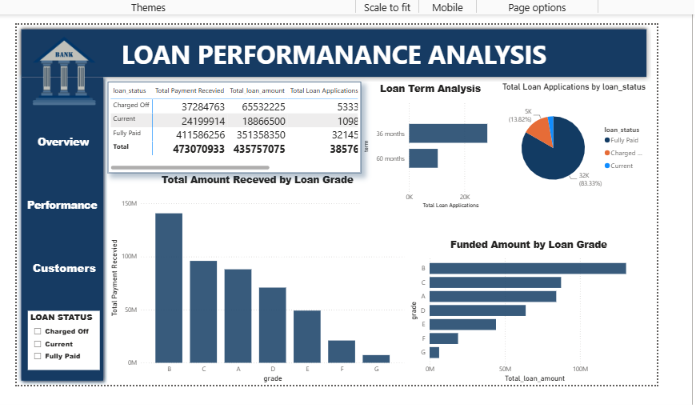

What the dashboard file says about the page in this screenshot:
{"tool":"powerbi","page":{"name":"Loan Performance Analysis","canvas":[1280,720],"ordinal":1},"visuals":[{"type":"shape","box":[0,0,1268.5,113.4],"z":0},{"type":"shape","box":[0,96.3,181.8,624.6],"z":1000},{"type":"image","box":[4.3,0,181.8,184],"z":2000},{"type":"clusteredColumnChart","title":"Total Amount Receved by Loan Grade","fields":{"Category":["bank_loan_analysis bank_loan.grade"],"Y":["bank_loan_analysis bank_loan.Total Payment Recevied"]},"box":[182,296,598,424],"z":3000},{"type":"clusteredBarChart","title":"Funded Amount by Loan Grade","fields":{"Category":["bank_loan_analysis bank_loan.grade"],"Y":["bank_loan_analysis bank_loan.Total_loan_amount"]},"box":[780.8,425.7,487.7,295.2],"z":4000},{"type":"clusteredBarChart","title":"Loan Term Analysis","fields":{"Category":["bank_loan_analysis bank_loan.term"],"Y":["bank_loan_analysis bank_loan.Total Loan Applications"]},"box":[688,114,278,258],"z":5000},{"type":"pieChart","fields":{"Category":["bank_loan_analysis bank_loan.loan_status"],"Y":["bank_loan_analysis bank_loan.Total Loan Applications"]},"box":[966,114,302,246],"z":6000},{"type":"pivotTable","fields":{"Rows":["bank_loan_analysis bank_loan.loan_status"],"Values":["bank_loan_analysis bank_loan.Total Payment Recevied","bank_loan_analysis bank_loan.Total_loan_amount","bank_loan_analysis bank_loan.Total Loan Applications","bank_loan_analysis bank_loan.Average Interest Rate","bank_loan_analysis bank_loan.Average DTI"]},"box":[182,114,506,182],"z":7000},{"type":"actionButton","box":[20,450,150,72],"z":8000},{"type":"actionButton","box":[16,324,150,72],"z":9000},{"type":"actionButton","box":[18,198,150,72],"z":10000},{"type":"slicer","title":"LOAN STATUS","fields":{"Values":["bank_loan_analysis bank_loan.loan_status"]},"box":[22,572,144,118],"z":11000}]}

Visuals, with their boxes on the page's 1280x720 design canvas (x1, y1, x2, y2). These are canvas units, not pixel positions in the 695x405 screenshot, which may show the page scaled, cropped or inside an application window:
shape: bbox=(0, 0, 1268, 113)
shape: bbox=(0, 96, 182, 721)
image: bbox=(4, 0, 186, 184)
"Total Amount Receved by Loan Grade" clusteredColumnChart: bbox=(182, 296, 780, 720)
"Funded Amount by Loan Grade" clusteredBarChart: bbox=(781, 426, 1268, 721)
"Loan Term Analysis" clusteredBarChart: bbox=(688, 114, 966, 372)
pieChart - bank_loan_analysis bank_loan.loan_status x bank_loan_analysis bank_loan.Total Loan Applications: bbox=(966, 114, 1268, 360)
pivotTable - bank_loan_analysis bank_loan.loan_status x bank_loan_analysis bank_loan.Total Payment Recevied: bbox=(182, 114, 688, 296)
actionButton: bbox=(20, 450, 170, 522)
actionButton: bbox=(16, 324, 166, 396)
actionButton: bbox=(18, 198, 168, 270)
"LOAN STATUS" slicer: bbox=(22, 572, 166, 690)
